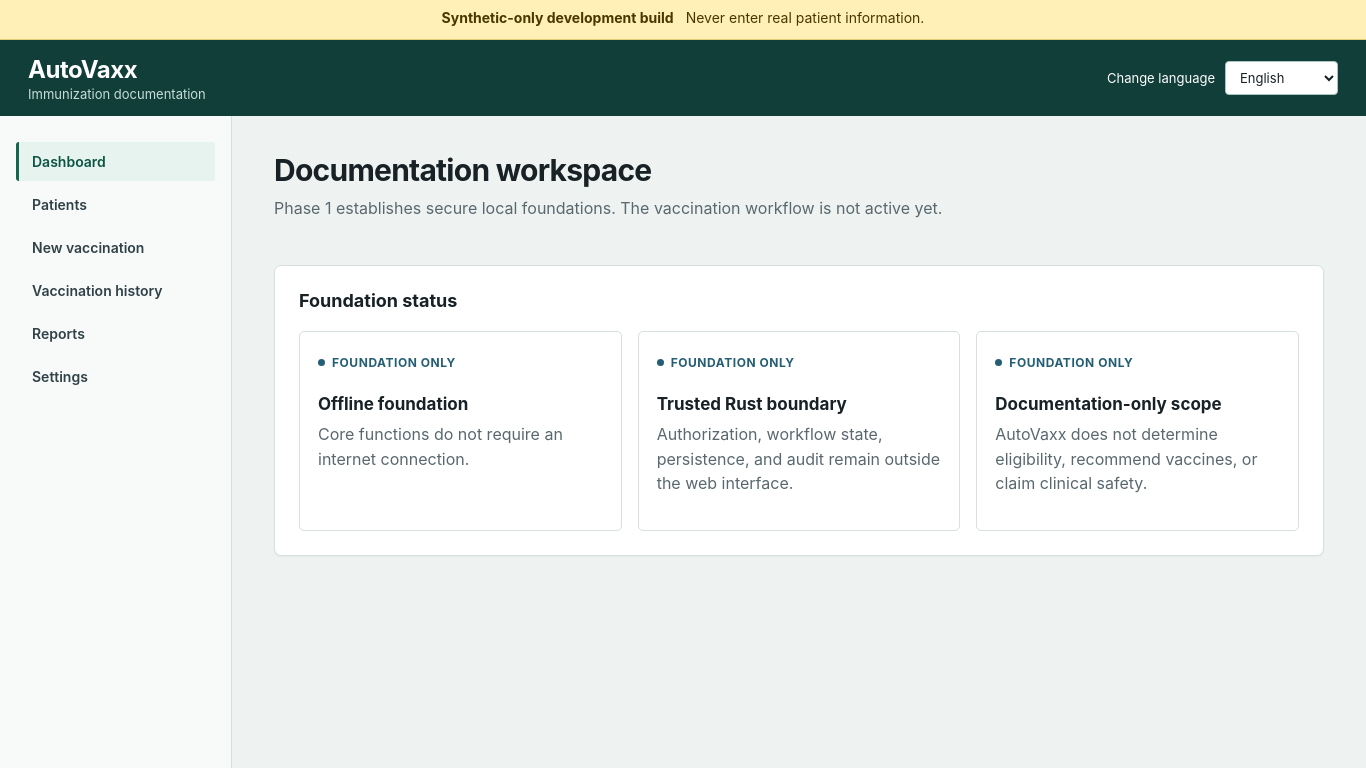
Scenario: Phase 1 desktop shell › switches all visible shell content to Spanish
Select "Español" in the dropdown labelled "Change language" at (1282, 78), box [1225,61,1338,95]
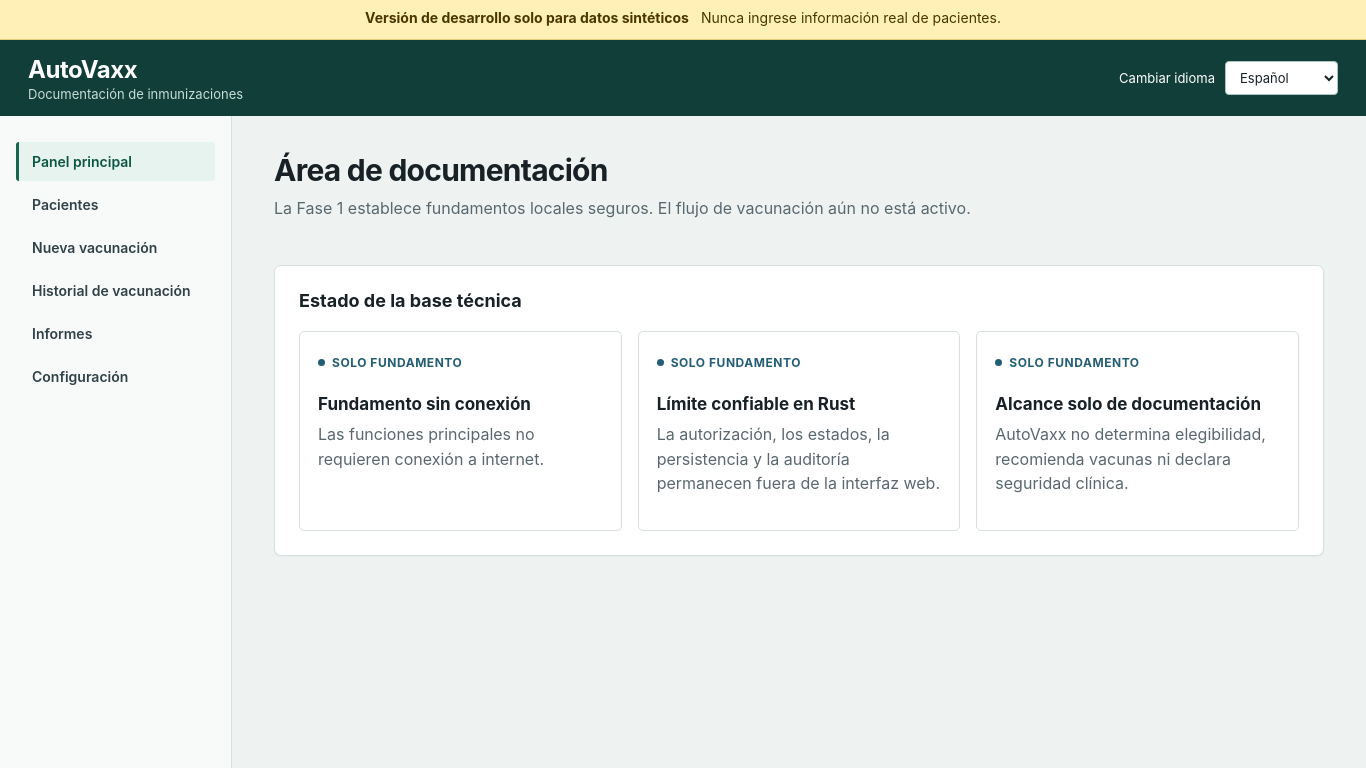
Expected: the heading "Área de documentación" is shown, [274,152,608,188]
Expected: the text "Nunca ingrese información real de pacientes." is shown, [701,9,1001,30]
